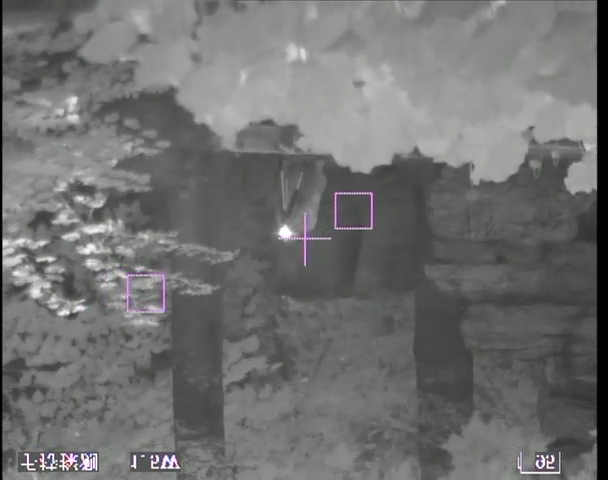my: (279, 225, 295, 241)
